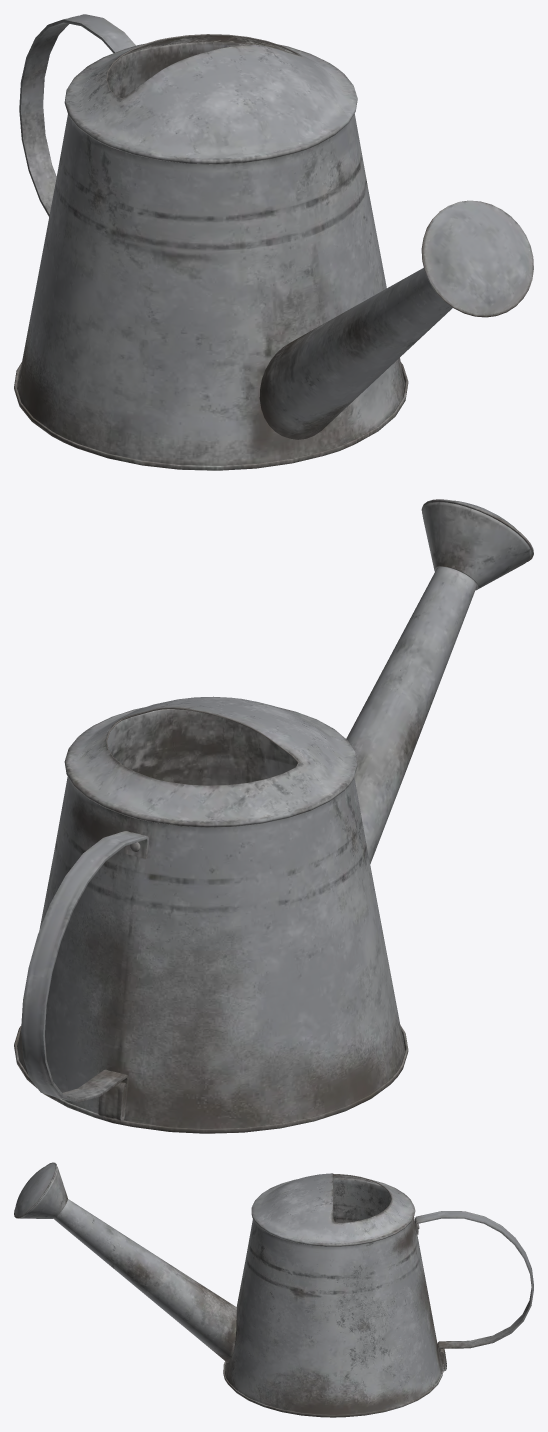
Rendered from watering_can_metal_01.glb.
3 views of the same model, one above another, from view 1: azimuth 30°, elevation 25°; view 2: azimuth 150°, elevation 25°; view 3: azimuth 270°, elevation 25° (orthographic). The views are drawn at different scales.
Parts seen in each view (by area): view 1: watering_can_metal_01; view 2: watering_can_metal_01; view 3: watering_can_metal_01.
Part boxes in pixels (x1,y1,x2,y2): watering_can_metal_01: (14,14,533,470); watering_can_metal_01: (14,499,533,1133); watering_can_metal_01: (14,1162,533,1417).
Bounding box in the file's own units: 0.191 × 0.1968 × 0.4523.
Materials: 1 (1 with a texture image).
